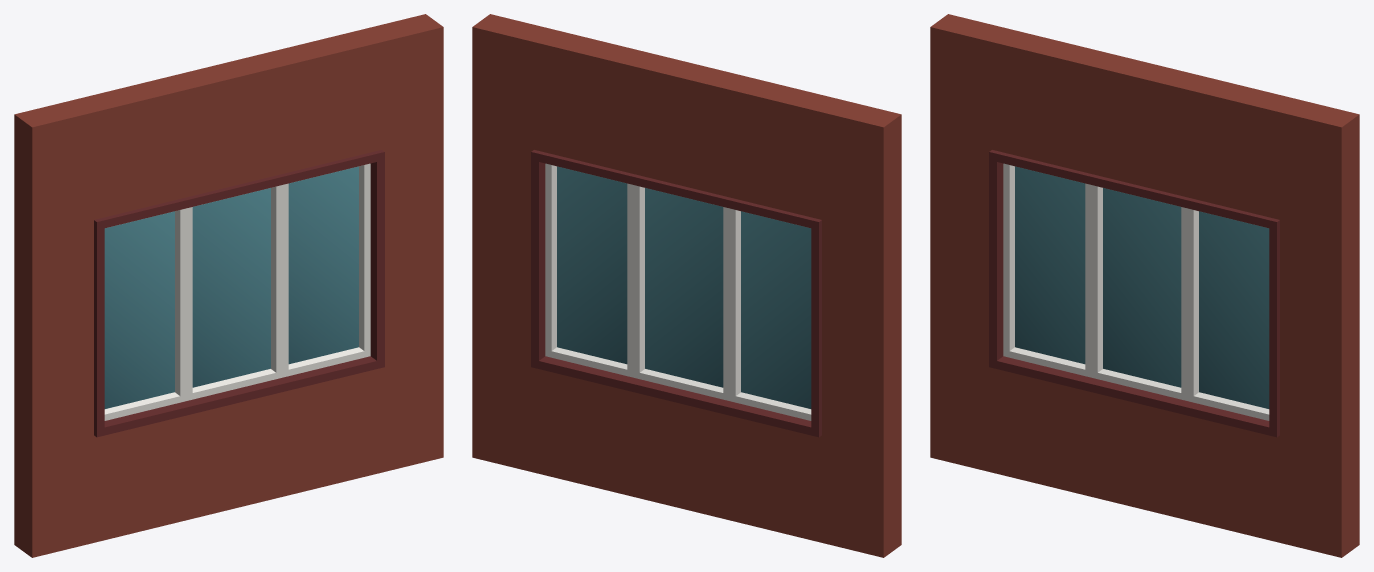
File: window3X1.fbx
The picture shows the model from 3 angles, left to right: view 1: azimuth 30°, elevation 25°; view 2: azimuth 150°, elevation 25°; view 3: azimuth 330°, elevation 25°; orthographic projection.
Parts seen in each view (by area): view 1: window3x1; view 2: window3x1; view 3: window3x1.
Boxes of the visible parts, bbox=[...] form: window3x1: bbox=[14, 14, 443, 557]; window3x1: bbox=[472, 14, 901, 557]; window3x1: bbox=[930, 14, 1359, 557].
Size of the model in its own units: 400 by 400 by 40.
Materials: 1 (1 with a texture image).
